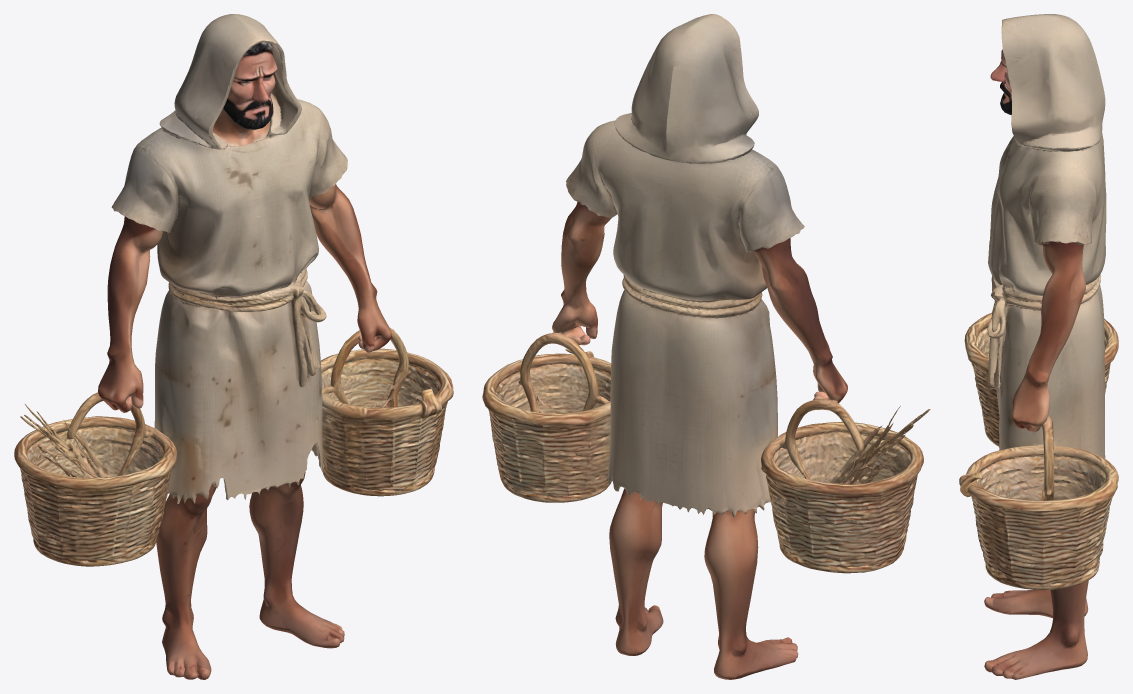
File: schiavo3.glb
3 views of the same model, side by side, from view 1: azimuth 30°, elevation 25°; view 2: azimuth 150°, elevation 25°; view 3: azimuth 270°, elevation 25° (orthographic).
Parts seen in each view (by area): view 1: model; view 2: model; view 3: model.
Boxes of the visible parts, bbox=[...] form: model: bbox=[14, 14, 453, 679]; model: bbox=[482, 14, 930, 679]; model: bbox=[959, 14, 1118, 679].
Size of the model in its own units: 1.21 by 1.72 by 0.3992.
Materials: 1 (1 with a texture image).
